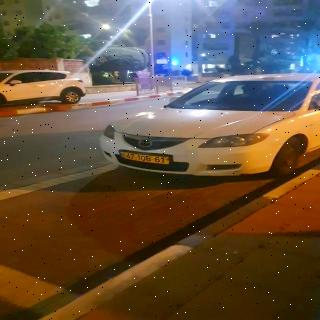LicensePlate: (123, 152, 169, 165)
